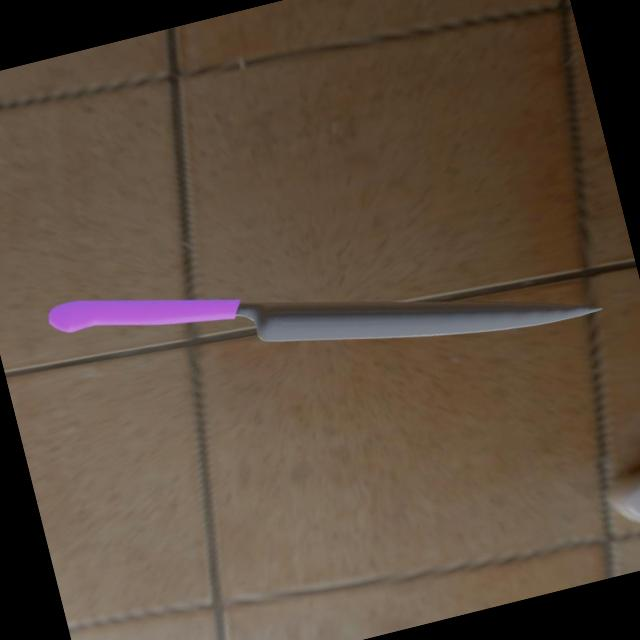knife: (42, 261, 241, 362)
